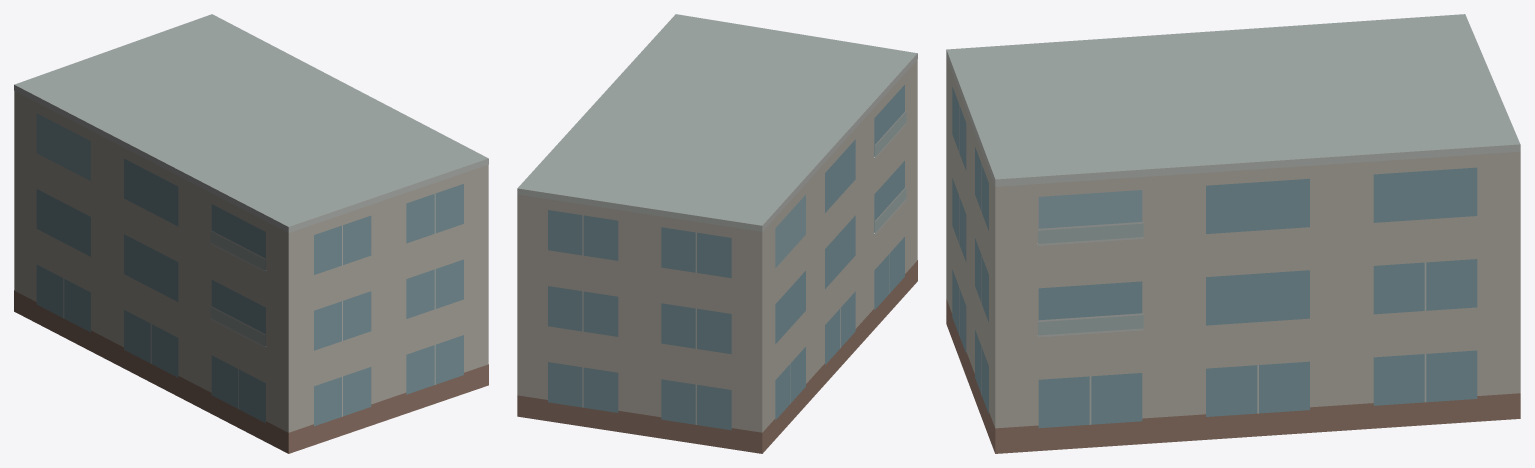
The model's file is survey-upis-32959171.glb.
3 views of the same model, side by side, from view 1: azimuth 30°, elevation 25°; view 2: azimuth 150°, elevation 25°; view 3: azimuth 270°, elevation 25° (orthographic). The views are drawn at different scales.
Parts seen in each view (by area): view 1: survey-upis-32959171.tmp; view 2: survey-upis-32959171.tmp; view 3: survey-upis-32959171.tmp.
Part boxes in pixels (x1,y1,x2,y2): survey-upis-32959171.tmp: (14,14,488,453); survey-upis-32959171.tmp: (517,14,917,453); survey-upis-32959171.tmp: (946,14,1520,453).
Bounding box in the file's own units: 11.84 × 9.15 × 17.36.
